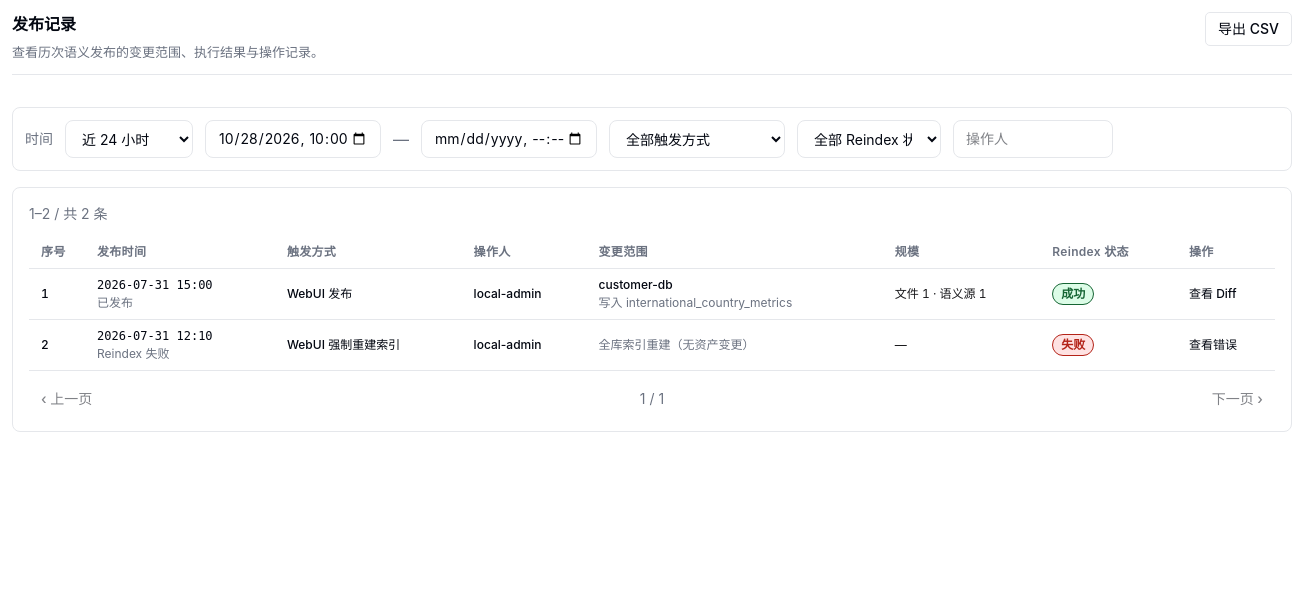
Test case: PublishHistory › expands the error panel when 查看错误 is clicked
The image size is (1292, 595).
Click the button "查看错误".
click(1213, 345)  # box [1189, 337, 1237, 353]
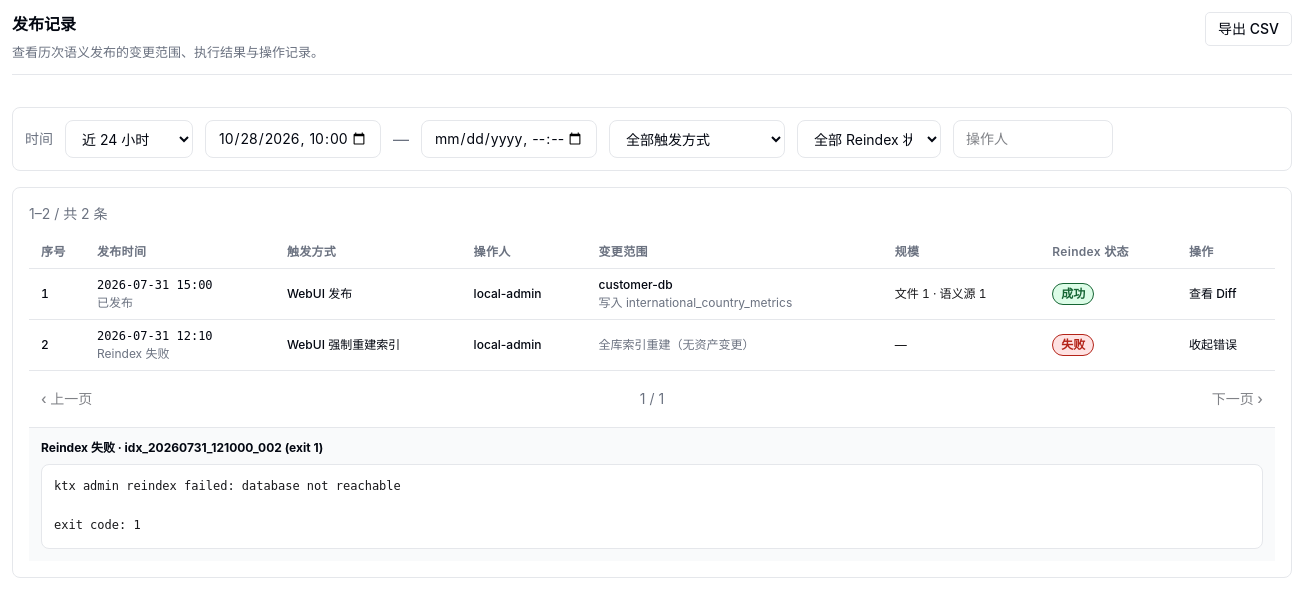
Expected: the element with test id "publish-history-expanded-panel" shows "ktx admin reindex failed", [54, 479, 401, 532]
Expected: the button "收起错误" is shown, [1189, 337, 1237, 353]
